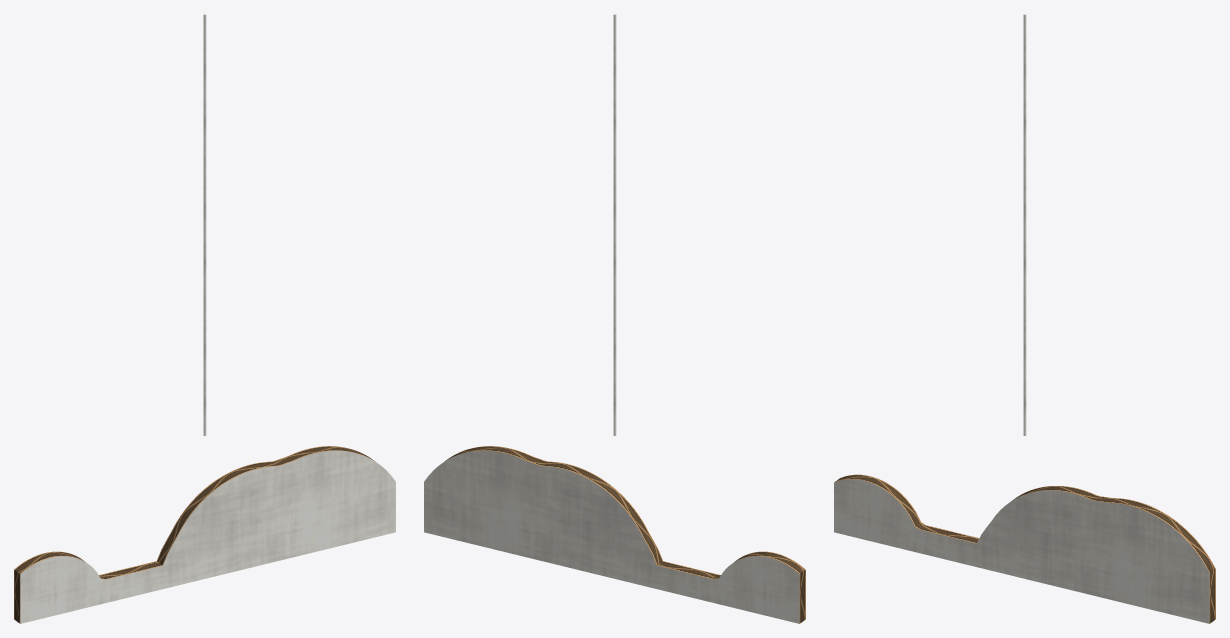
File: cloud_cutout_01.gltf
3 renders of one model, left to right at view 1: azimuth 30°, elevation 25°; view 2: azimuth 150°, elevation 25°; view 3: azimuth 330°, elevation 25°, orthographic.
Visible parts, largest first — view 1: cloud_cutout_01; view 2: cloud_cutout_01; view 3: cloud_cutout_01.
Part boxes in pixels (<box>): cloud_cutout_01: <box>14,14,395,623</box>; cloud_cutout_01: <box>424,14,805,623</box>; cloud_cutout_01: <box>834,14,1215,623</box>.
Size of the model in its own units: 1.4 by 2 by 0.04.
2 materials, 2 textured.
